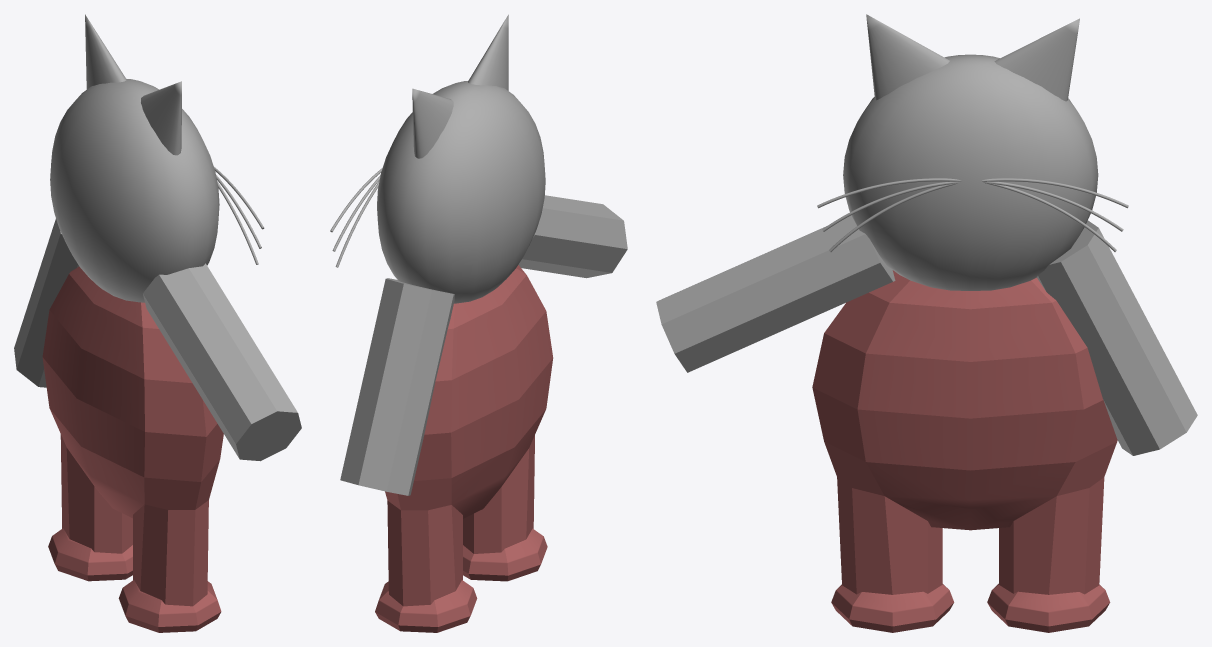
File: Catttt.fbx
The picture shows the model from 3 angles, left to right: view 1: azimuth 30°, elevation 25°; view 2: azimuth 150°, elevation 25°; view 3: azimuth 270°, elevation 25°; orthographic projection. The views are drawn at different scales.
Parts seen in each view (by area): view 1: polySurface6, pSphere2, polySurface16, polySurface17, pCone1, polySurface13; view 2: polySurface6, pSphere2, polySurface17, polySurface16, pCone1, polySurface13; view 3: polySurface6, pSphere2, polySurface16, polySurface17, pCone1, polySurface13.
Boxes of the visible parts, x1,y1,x2,y2 form: polySurface6: [42, 266, 223, 632]; pSphere2: [50, 79, 219, 302]; polySurface16: [143, 263, 301, 461]; polySurface17: [14, 219, 78, 387]; pCone1: [85, 14, 181, 155]; polySurface13: [214, 167, 264, 264]; polySurface6: [375, 265, 553, 632]; pSphere2: [377, 81, 545, 303]; polySurface17: [340, 278, 454, 495]; polySurface16: [518, 195, 627, 278]; pCone1: [412, 14, 508, 158]; polySurface13: [330, 168, 382, 267]; polySurface6: [812, 270, 1117, 632]; pSphere2: [843, 54, 1098, 290]; polySurface16: [656, 215, 895, 372]; polySurface17: [1037, 220, 1197, 455]; pCone1: [866, 14, 1079, 101]; polySurface13: [817, 178, 1128, 251].
Size of the model in its own units: 2.12 by 8.86 by 7.17.
